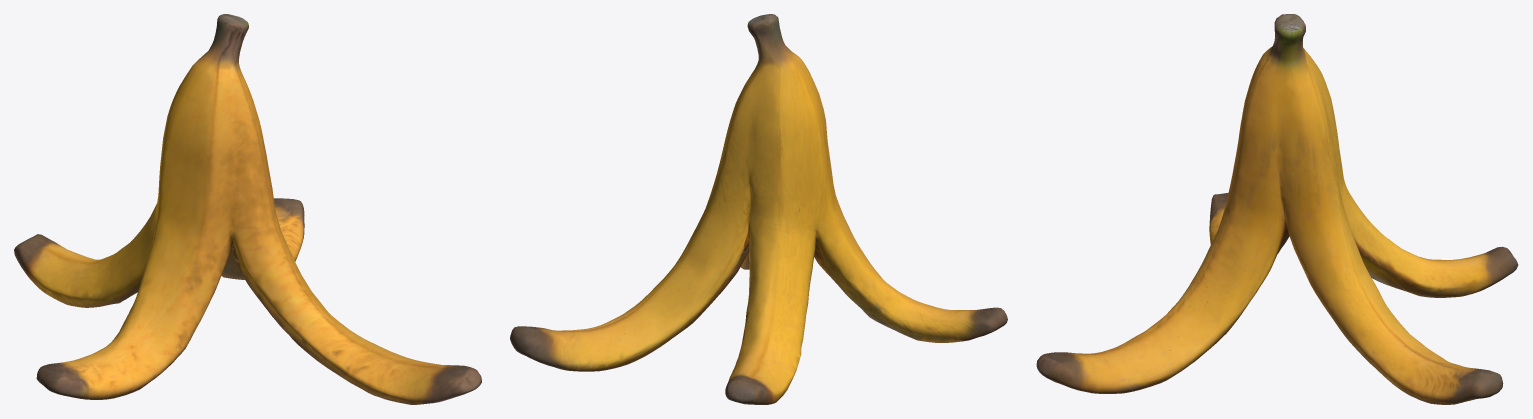
File: BA_NA_NAAAAAAAAAAA_0801145241_texture.fbx
The picture shows the model from 3 angles, left to right: view 1: azimuth 30°, elevation 25°; view 2: azimuth 150°, elevation 25°; view 3: azimuth 270°, elevation 25°; orthographic projection. The views are drawn at different scales.
Visible parts, largest first — view 1: input; view 2: input; view 3: input.
Boxes of the visible parts, <box> form: input: <box>14,14,481,404</box>; input: <box>510,14,1007,404</box>; input: <box>1036,14,1518,404</box>.
Bounding box in the file's own units: 180 × 148 × 199.
Materials: 1 (1 with a texture image).
